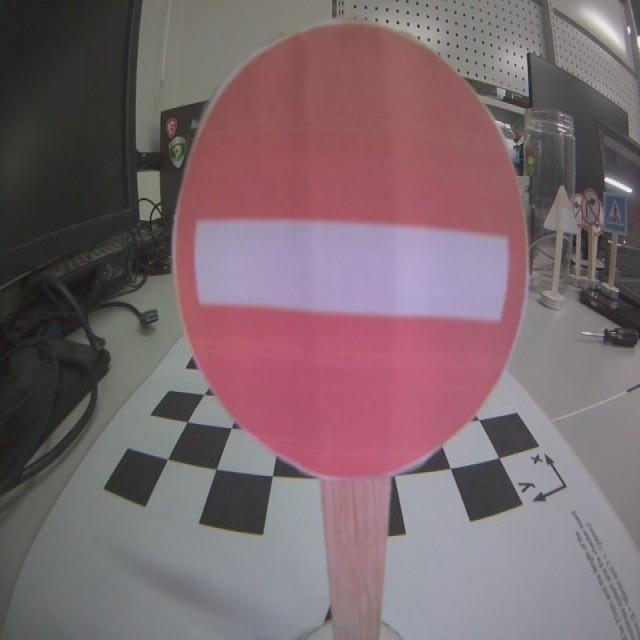Dilarang Masuk: (172, 16, 519, 483)
Rambu Penyebrangan: (602, 190, 629, 234)
